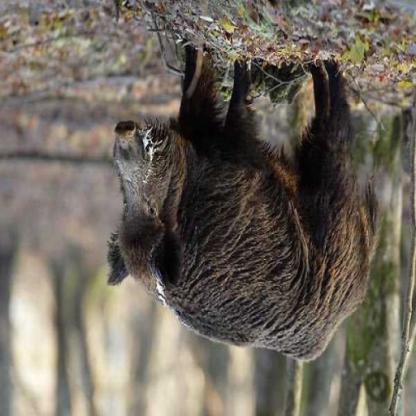boar: (78, 52, 405, 381)
